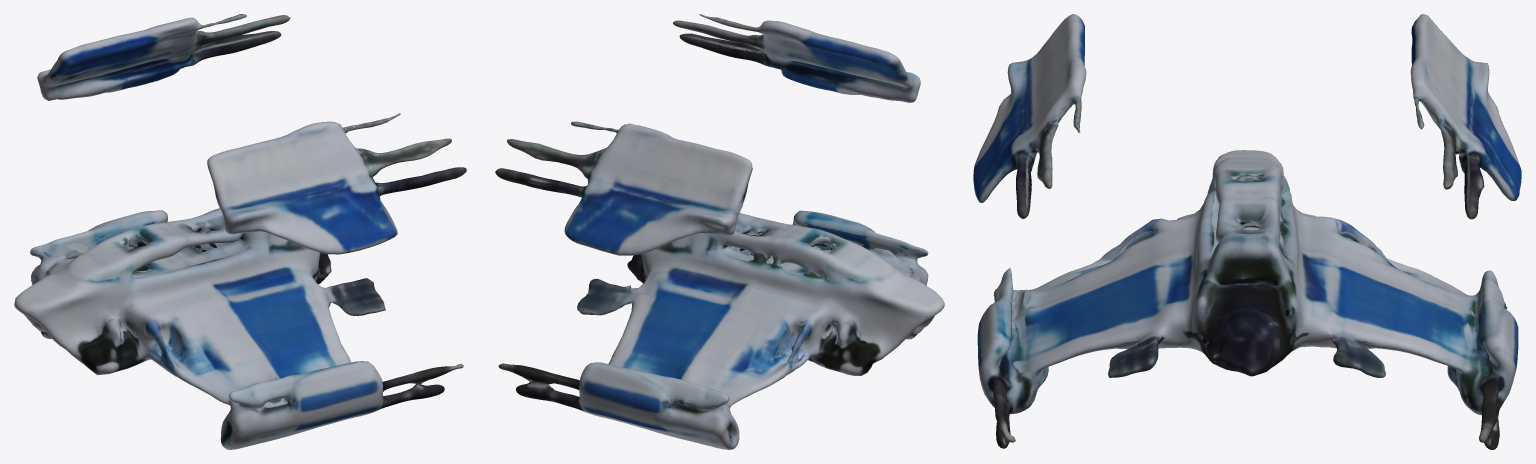
The model's file is 21458481dc32_crea_naves_de_batal.fbx.
3 views of the same model, side by side, from view 1: azimuth 30°, elevation 25°; view 2: azimuth 150°, elevation 25°; view 3: azimuth 270°, elevation 25° (orthographic). The views are drawn at different scales.
Visible parts, largest first — view 1: mesh; view 2: mesh; view 3: mesh.
Part boxes in pixels (x1,y1,x2,y2): mesh: (14,14,466,449); mesh: (495,14,944,449); mesh: (973,14,1521,449).
Bounding box in the file's own units: 89.85 × 69.58 × 99.65.
